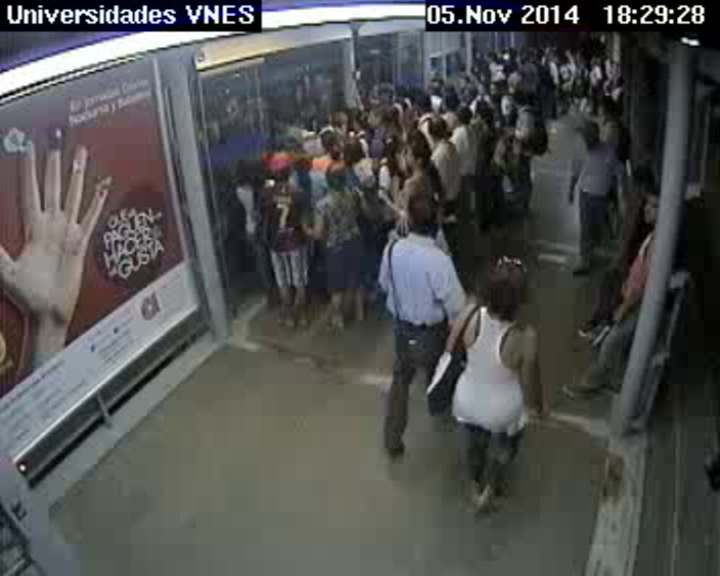person: (485, 255, 535, 313), (406, 191, 442, 230), (642, 192, 668, 222), (426, 114, 452, 141), (269, 157, 295, 184), (324, 161, 349, 188), (631, 169, 655, 195), (406, 144, 430, 169), (366, 105, 389, 130), (329, 110, 352, 134), (579, 122, 602, 145), (341, 143, 365, 165), (319, 131, 340, 156), (292, 153, 315, 175), (381, 136, 402, 160), (349, 108, 371, 130), (236, 161, 258, 183), (408, 127, 428, 151), (377, 84, 398, 105), (414, 93, 434, 114), (599, 100, 619, 120), (456, 107, 475, 125), (511, 91, 528, 108), (478, 107, 494, 124), (520, 69, 535, 84), (492, 80, 507, 95), (442, 86, 456, 101), (442, 100, 456, 115), (476, 83, 489, 96), (613, 77, 625, 89), (459, 75, 471, 86), (562, 49, 573, 60), (519, 54, 530, 65), (544, 50, 554, 60), (508, 48, 518, 58), (503, 62, 513, 72), (432, 85, 442, 95), (591, 56, 600, 66), (487, 52, 497, 61), (474, 51, 483, 60), (500, 50, 509, 58), (577, 69, 585, 77), (578, 57, 585, 66)
